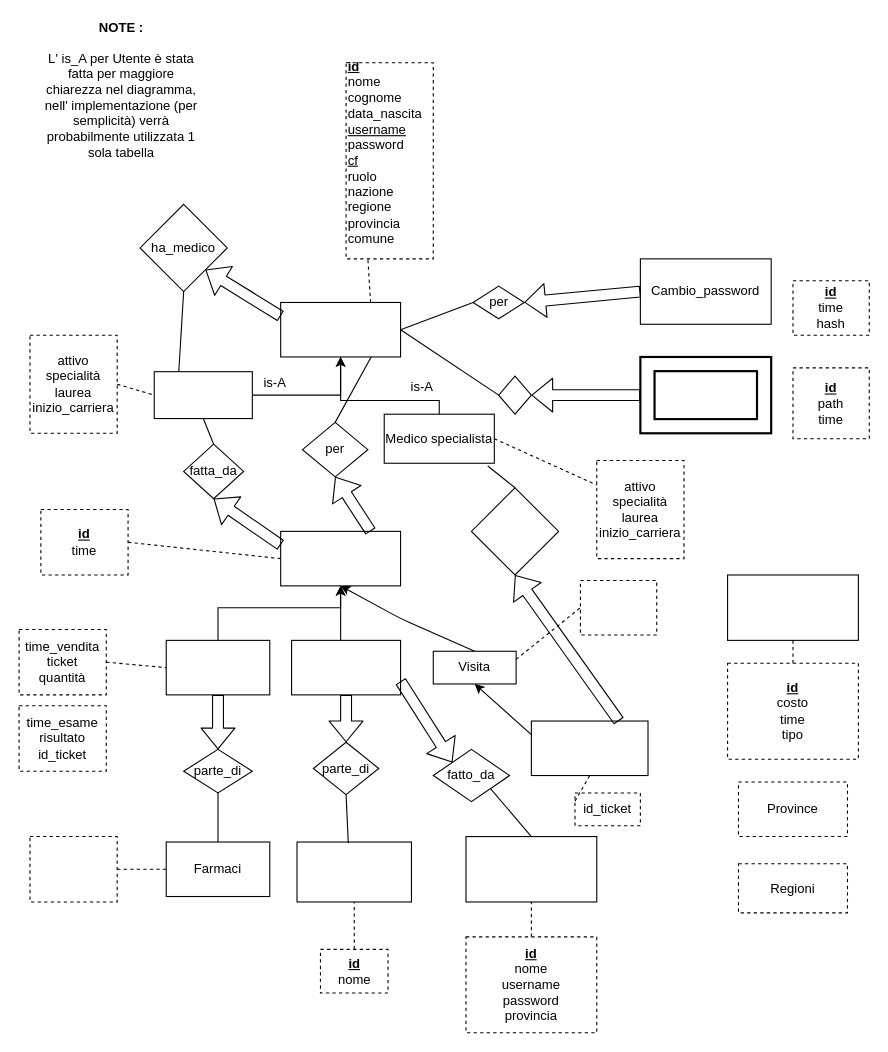
This 888x1052 diagram has some shape labels left out. Each missing label, with the centre of its shape:
"completata_da" goes at [514,531].
"Esame" goes at [345,667].
"Esami prescrivibili" goes at [353,871].
"Farmaco" goes at [217,667].
"Foto" goes at [705,394].
"id nome costo" goes at [73,868].
"Medico" goes at [202,395].
"Prescrizione" goes at [340,558].
"Servizio_sanitario provinciale" goes at [531,868].
"Ticket" goes at [792,607].
"time_visita anamnsesi" goes at [618,607].
"Utente" goes at [340,329].
"Visita_specialistica" goes at [589,748].
